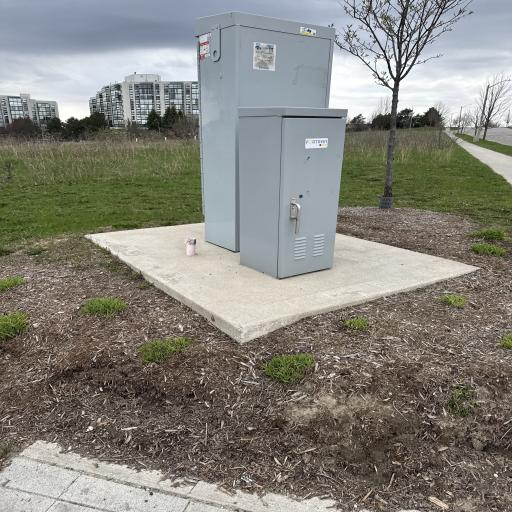Electrical Box: (194, 12, 348, 278)
